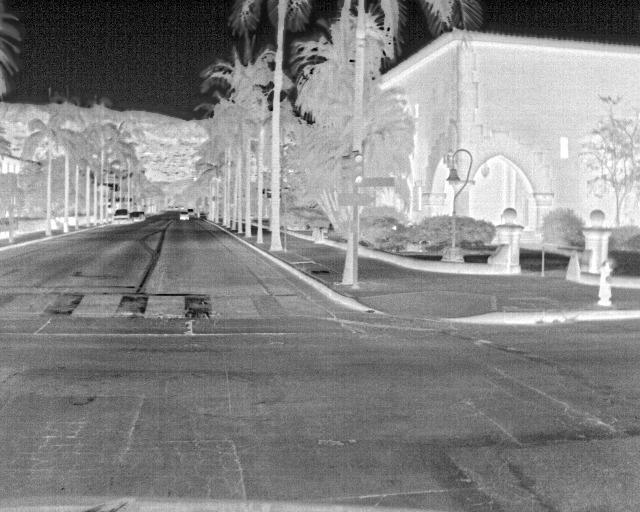car: (112, 206, 131, 225), (128, 210, 141, 224), (178, 209, 192, 221), (185, 207, 196, 218)
